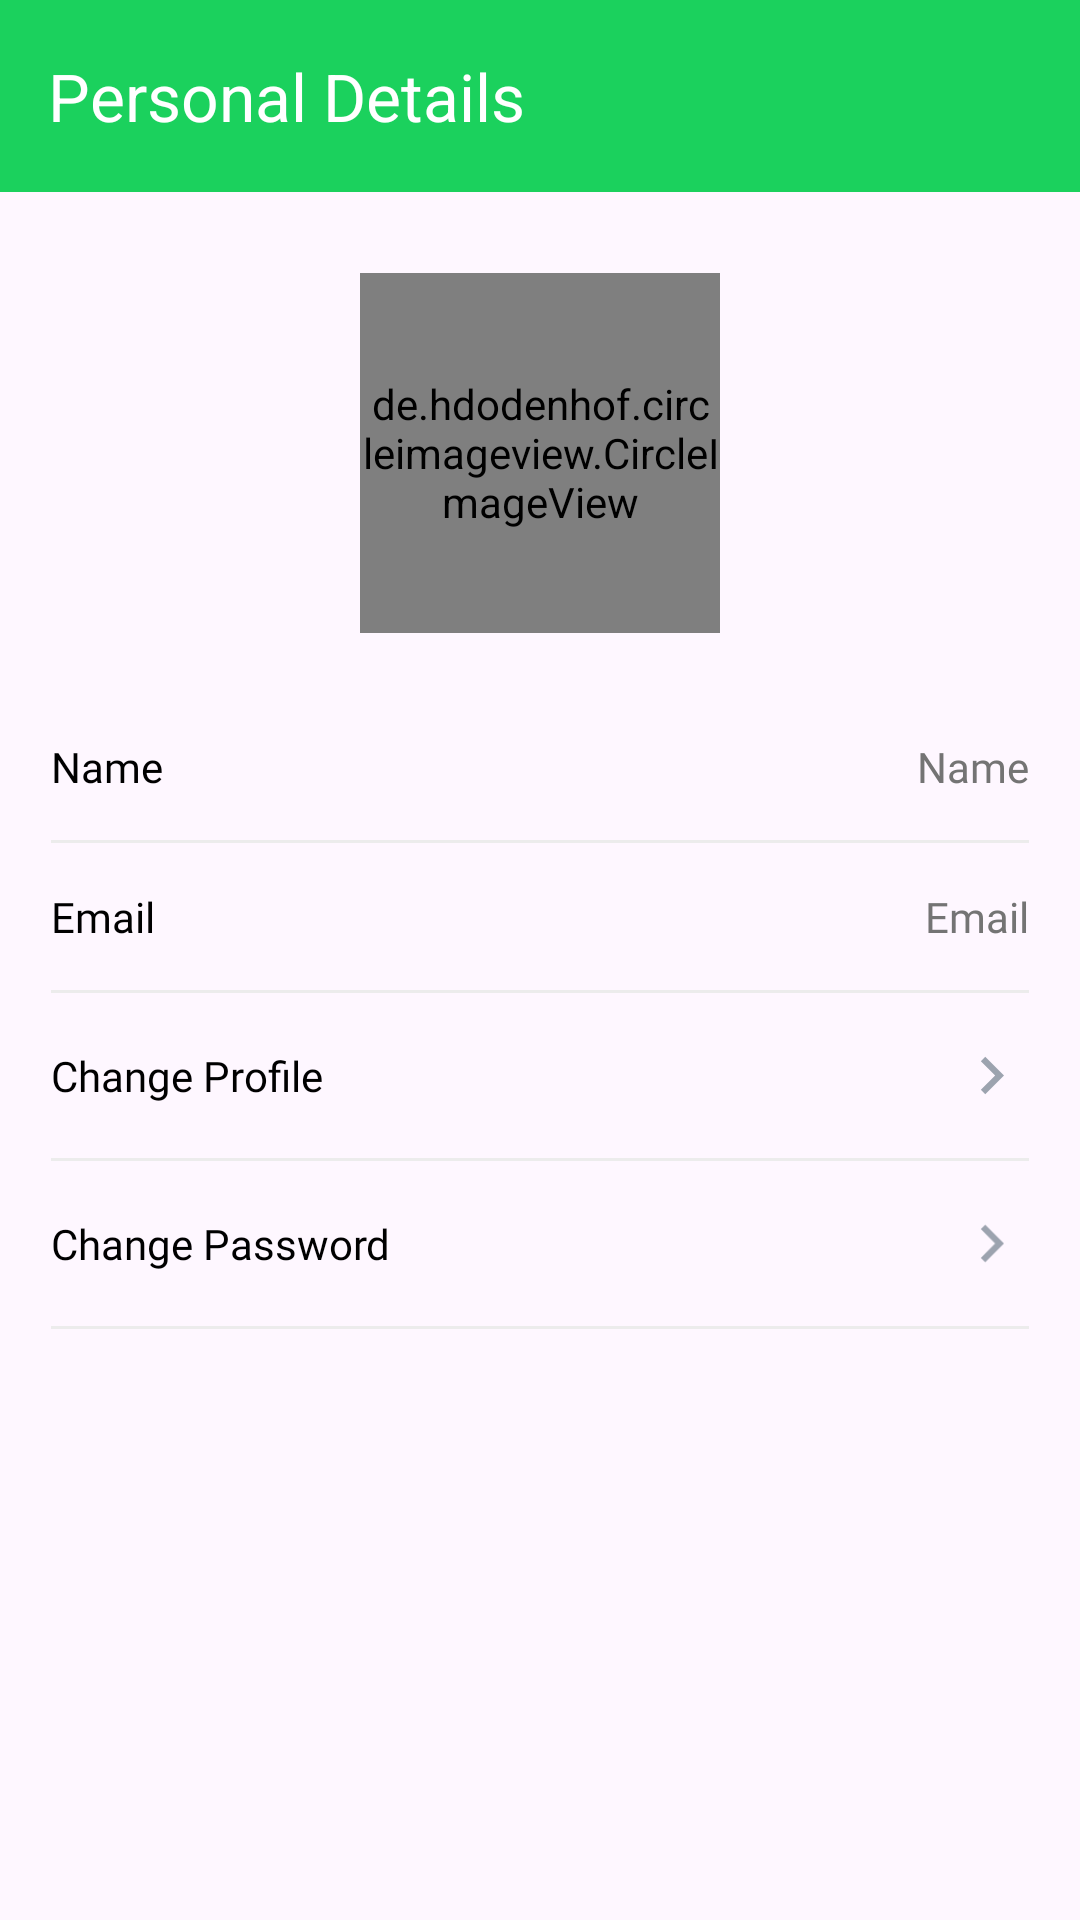

Locate icon controls on the screen. Image size 1080 × 1920, boxes as (x1, y1, x2, y2).
keyboard arrow right: (981, 1057, 1004, 1094), (981, 1225, 1004, 1262)
